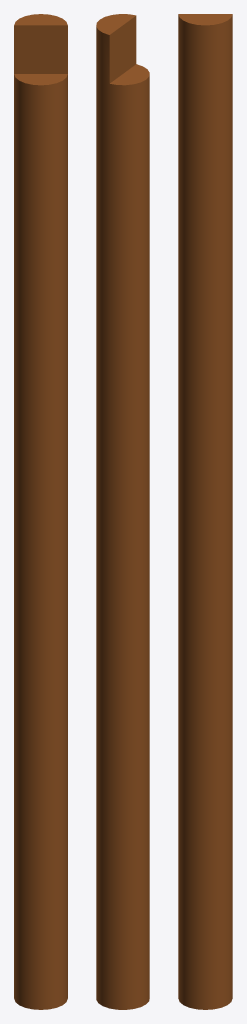
The model's file is Building_Modular_Wood_Support_01.fbx.
The picture shows the model from 3 angles, left to right: view 1: azimuth 90°, elevation 25°; view 2: azimuth 150°, elevation 25°; view 3: azimuth 270°, elevation 25°; orthographic projection.
Visible parts, largest first — view 1: Model; view 2: Model; view 3: Model.
Boxes of the visible parts, <box> form: Model: <box>14,14,67,1009</box>; Model: <box>96,14,149,1009</box>; Model: <box>178,14,232,1009</box>.
Size of the model in its own units: 90.24 by 1805 by 90.24.
